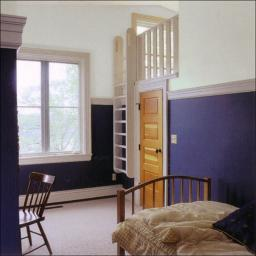Cama: (121, 199, 254, 253)
Escaleras: (111, 39, 137, 178)
Puerta: (140, 88, 164, 176)
Ventana: (22, 48, 93, 162)
